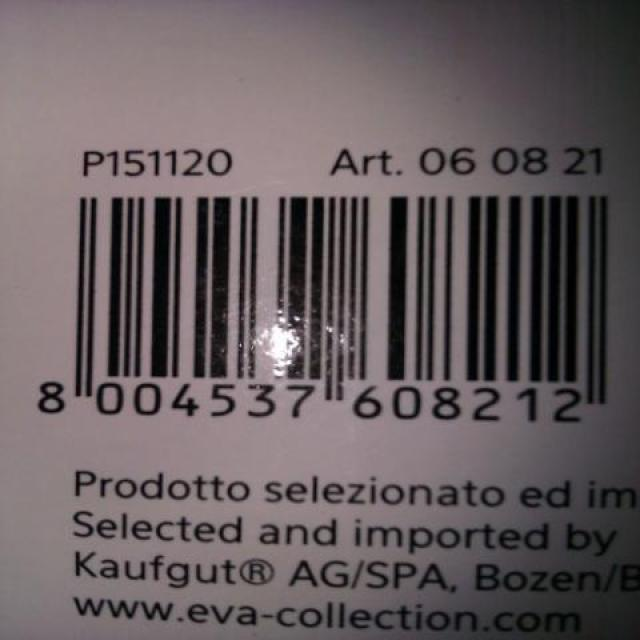Barcode: (15, 184, 636, 436)
